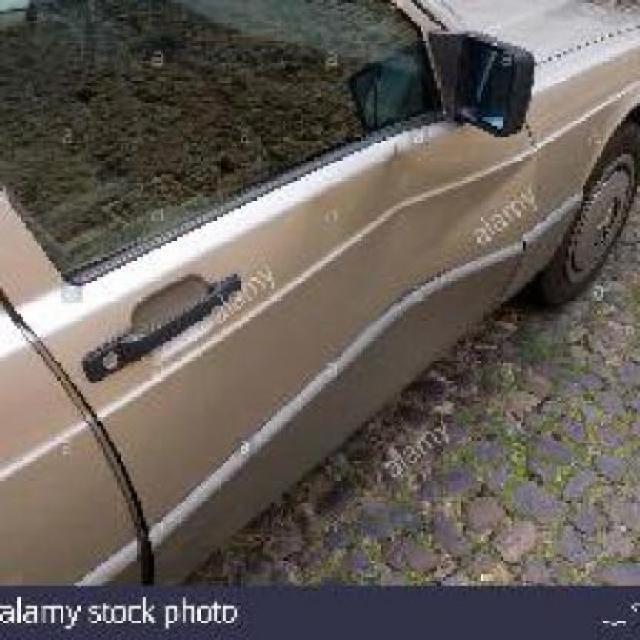damaged-door: (0, 0, 506, 589)
